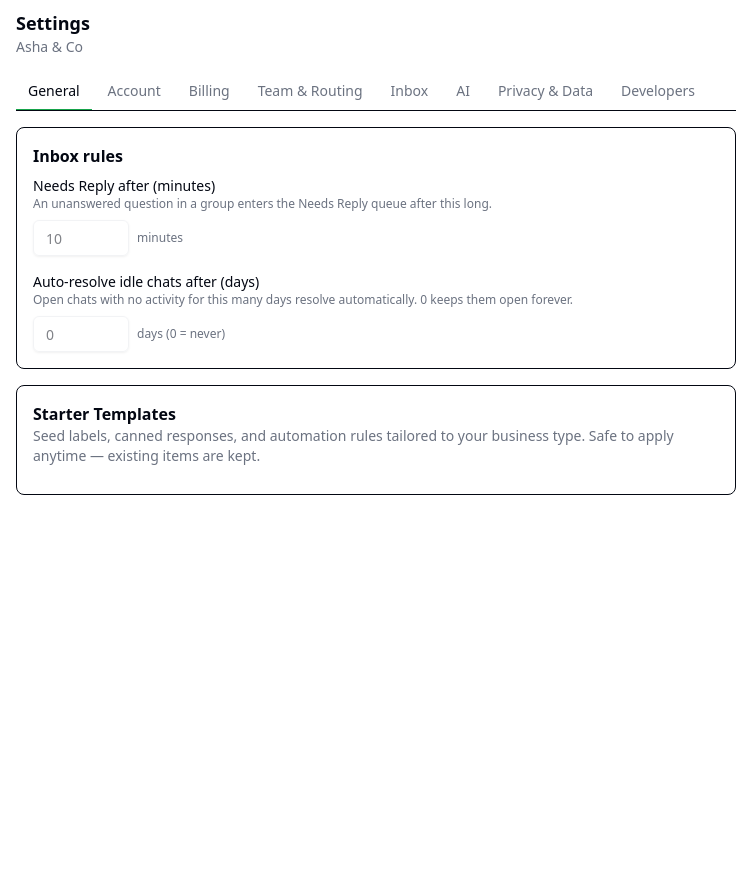
Test: SettingsPage › agents get a read-only page
Expected: the text "Asha & Co" is shown, [16,37,83,56]
Click the tab "Inbox".
click(409, 92)  # box [379,73,440,111]
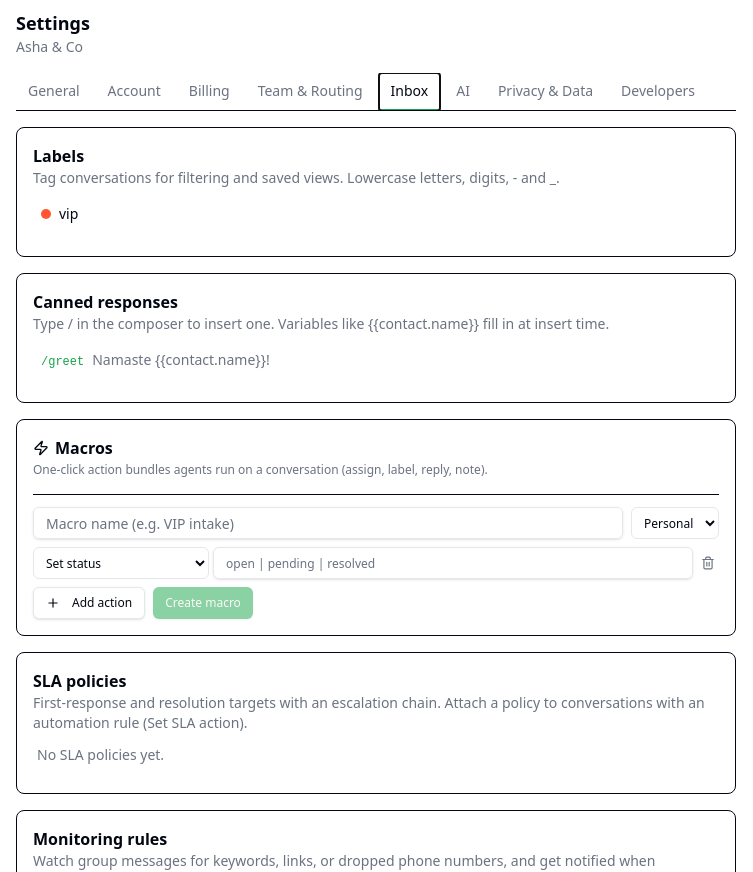
Expected: the text "vip" is shown, [59,204,78,223]
Click the tab "Privacy & Data".
click(546, 92)  # box [486,73,605,111]
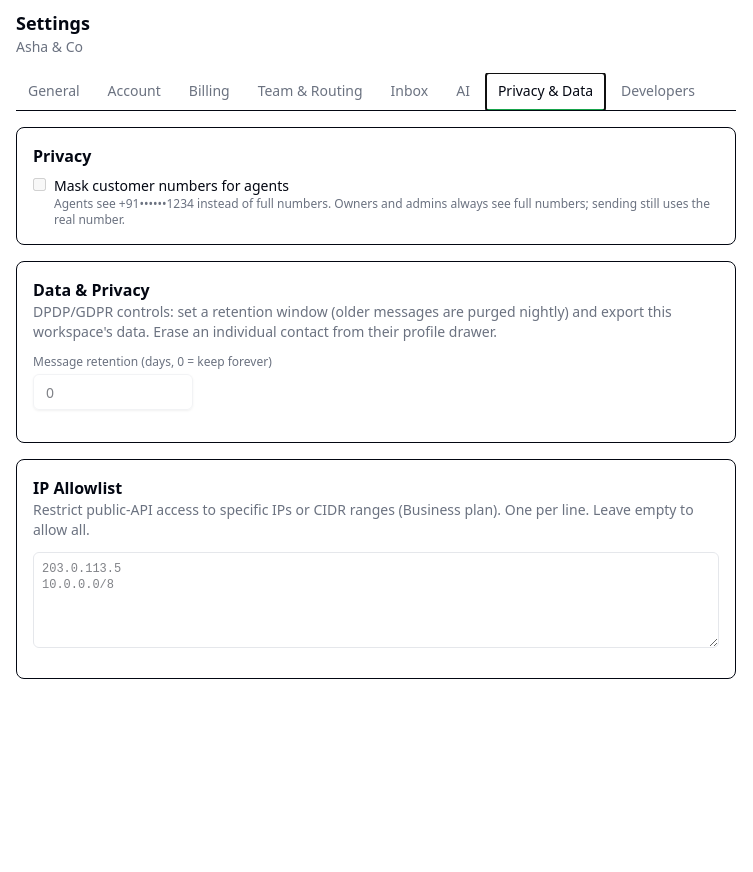
Expected: the checkbox labelled "Mask customer numbers for agents" is disabled, [33,178,46,191]
